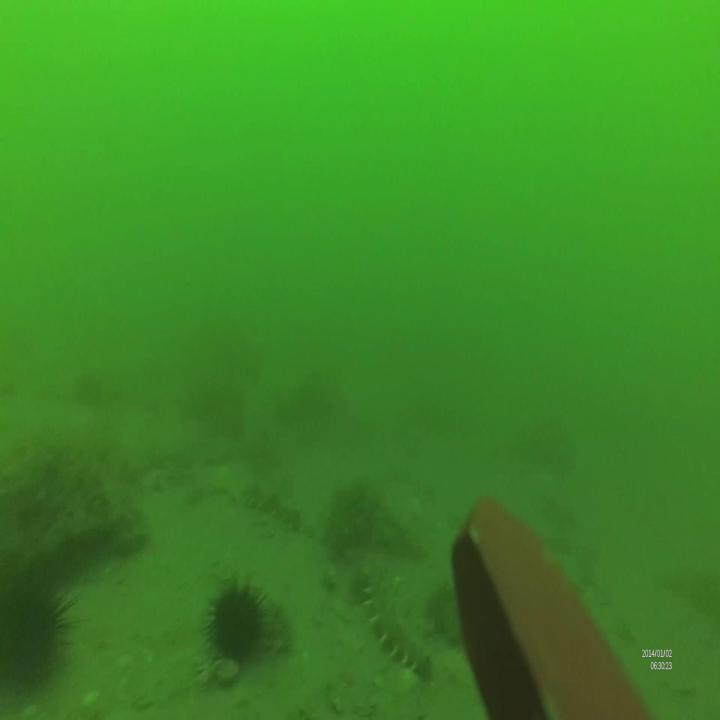echinus: (0, 561, 76, 680), (202, 578, 270, 670)
holothurian: (365, 562, 435, 682), (240, 482, 302, 533)
